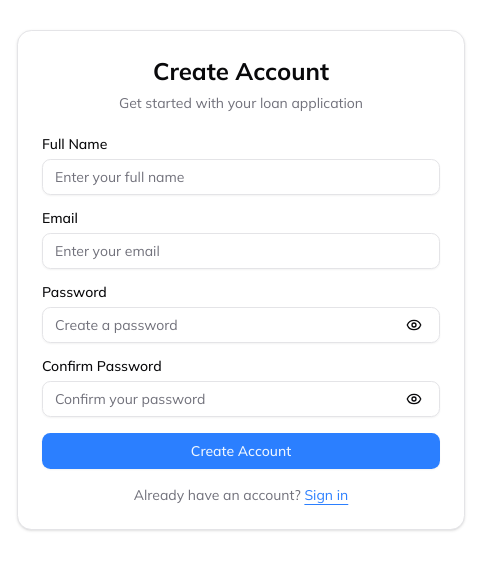
Test: RegisterPage › shows error when passwords do not match
Type "John Doe" into the field labelled "Full Name".
click(241, 177); type("John Doe")  # box [42,159,440,195]
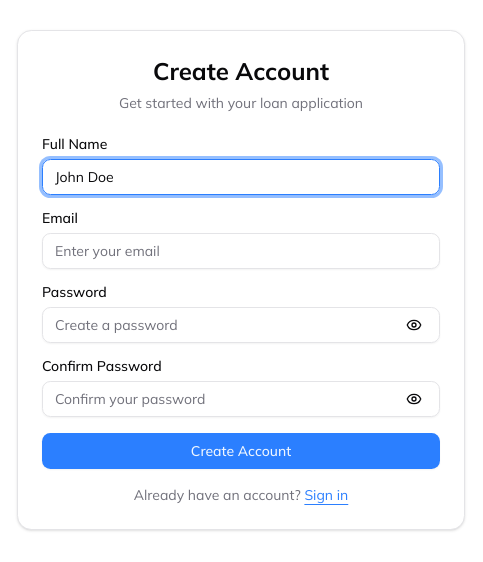
Type "john@example.com" into the field labelled "Email".
click(241, 251); type("john@example.com")  # box [42,233,440,269]
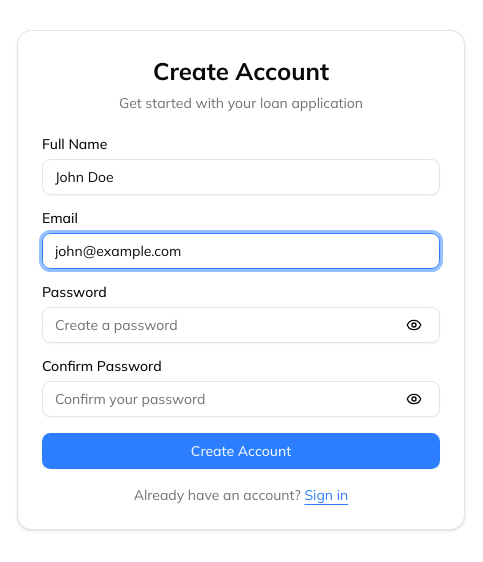
Type "password123" into the password field labelled "Password".
click(241, 325); type("password123")  # box [42,307,440,343]
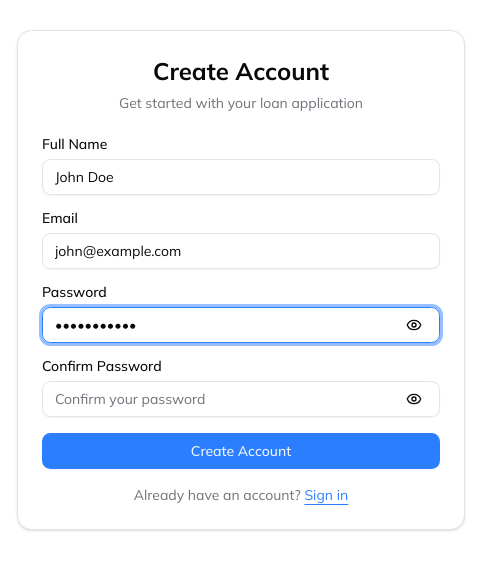
Type "different_password" into the password field labelled "Confirm Password".
click(241, 399); type("different_password")  # box [42,381,440,417]
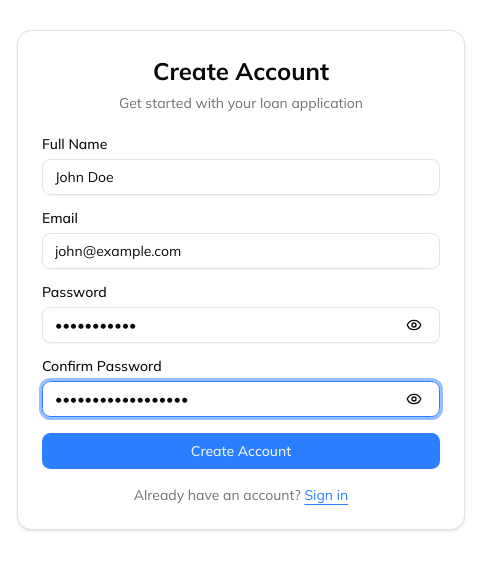
Click the button "Create Account".
click(241, 451)  # box [42,433,440,469]
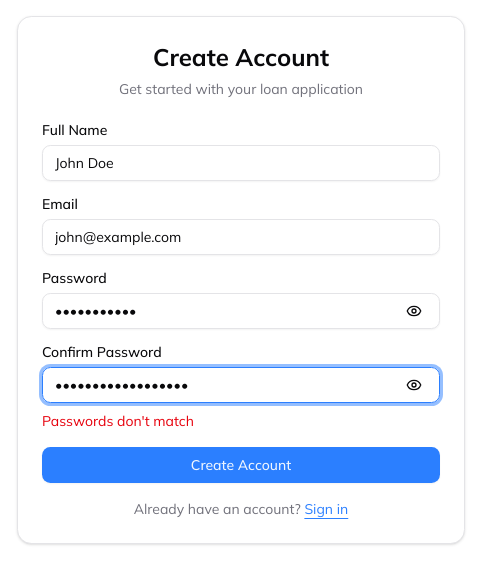
Check: the text "Passwords don't match" is shown, box [42,412,194,430]
